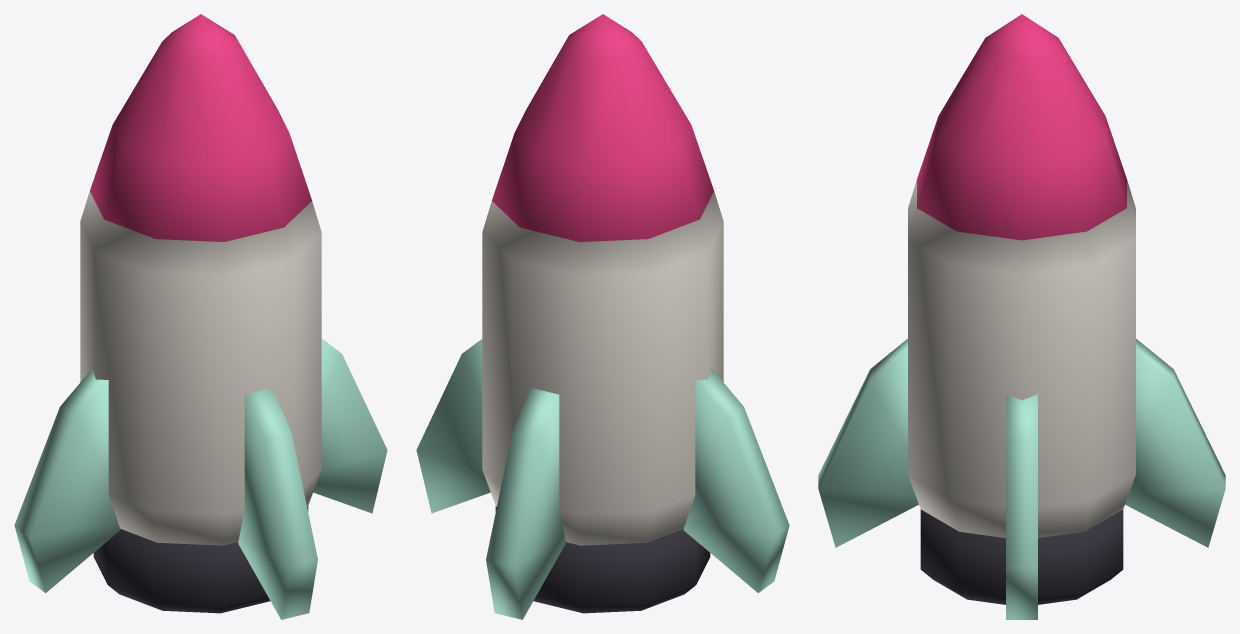
The model's file is Spark_Missile.fbx.
3 views of the same model, side by side, from view 1: azimuth 30°, elevation 25°; view 2: azimuth 150°, elevation 25°; view 3: azimuth 270°, elevation 25° (orthographic).
Visible parts, largest first — view 1: Spark_Missile; view 2: Spark_Missile; view 3: Spark_Missile.
Part boxes in pixels (<box>): Spark_Missile: <box>14,14,387,619</box>; Spark_Missile: <box>416,14,789,619</box>; Spark_Missile: <box>818,14,1225,619</box>.
Size of the model in its own units: 30.6 by 45.9 by 30.6.
